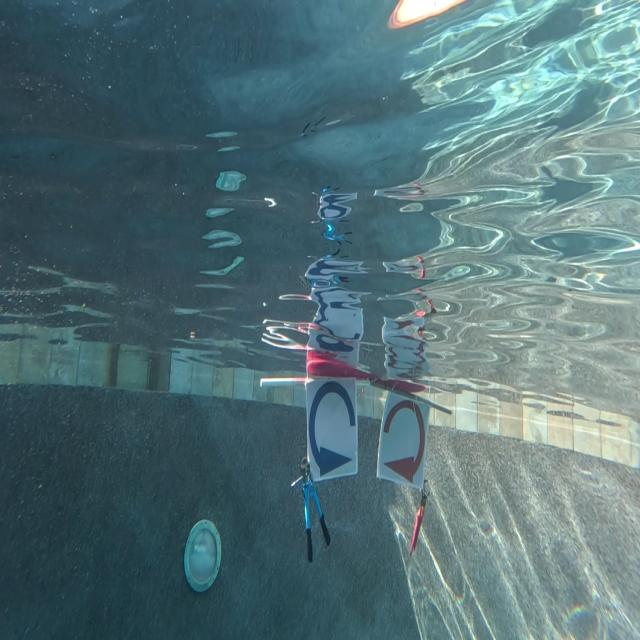blue_side: (306, 378, 360, 481)
red_side: (378, 387, 428, 492)
